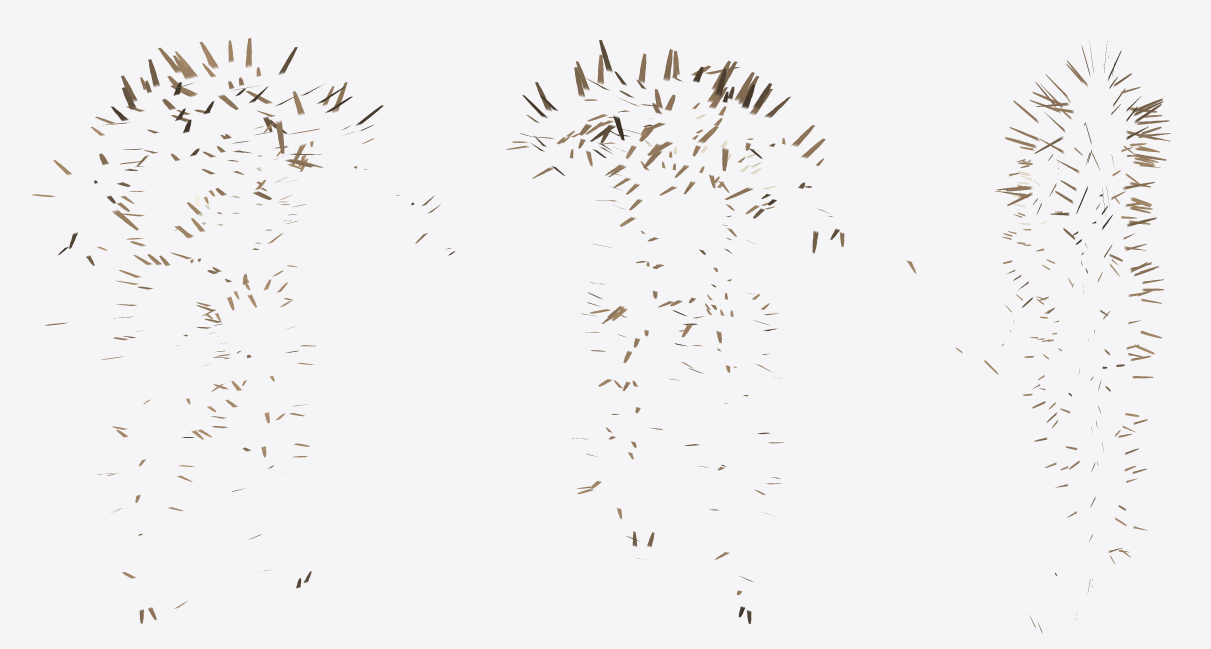
File: fur_cards_sen_lod2.glb
3 views of the same model, side by side, from view 1: azimuth 30°, elevation 25°; view 2: azimuth 150°, elevation 25°; view 3: azimuth 270°, elevation 25° (orthographic).
Parts seen in each view (by area): view 1: FurCards; view 2: FurCards; view 3: FurCards.
Part boxes in pixels (bbox=[...]): FurCards: bbox=[32, 37, 454, 623]; FurCards: bbox=[506, 40, 916, 623]; FurCards: bbox=[955, 40, 1170, 633].
Size of the model in its own units: 1.19 by 1.61 by 0.6142.
1 material, 1 textured.
